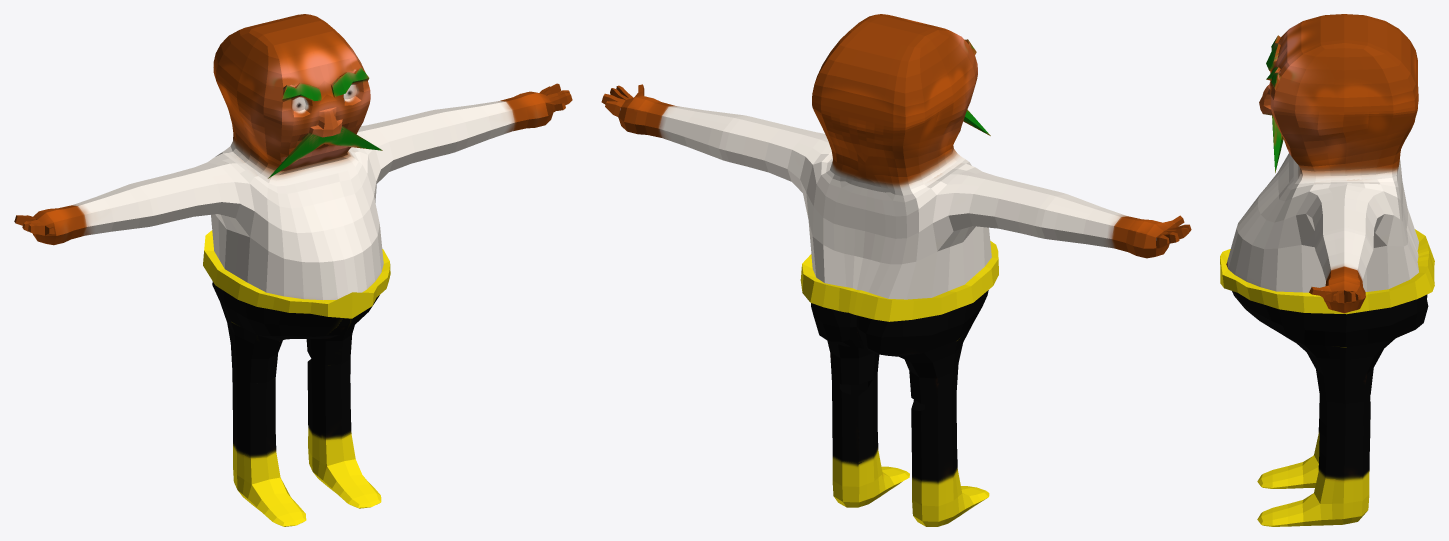
File: Dick Tater Fixed Model.fbx
3 renders of one model, left to right at view 1: azimuth 30°, elevation 25°; view 2: azimuth 150°, elevation 25°; view 3: azimuth 270°, elevation 25°, orthographic. The views are drawn at different scales.
Parts seen in each view (by area): view 1: Cube; view 2: Cube; view 3: Cube.
Boxes of the visible parts, bbox=[...] form: Cube: bbox=[14, 14, 572, 526]; Cube: bbox=[601, 14, 1191, 526]; Cube: bbox=[1220, 14, 1434, 526].
Size of the model in its own units: 1514 by 1217 by 498.
1 material, 1 textured.
